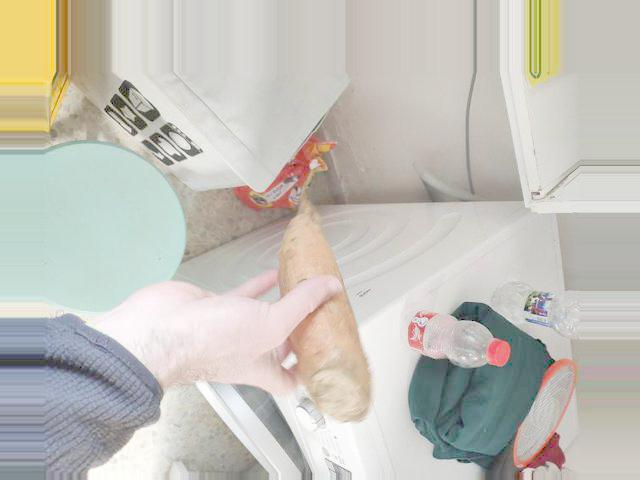sweet_potato: (293, 192, 358, 420)
